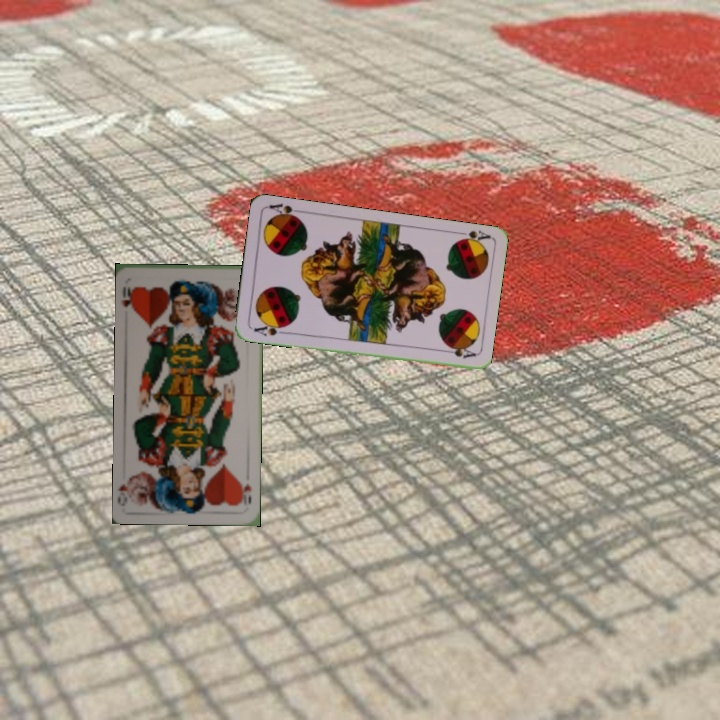HO: (118, 282, 138, 314), (236, 477, 253, 508)
SA: (452, 227, 492, 248), (250, 319, 289, 339)
